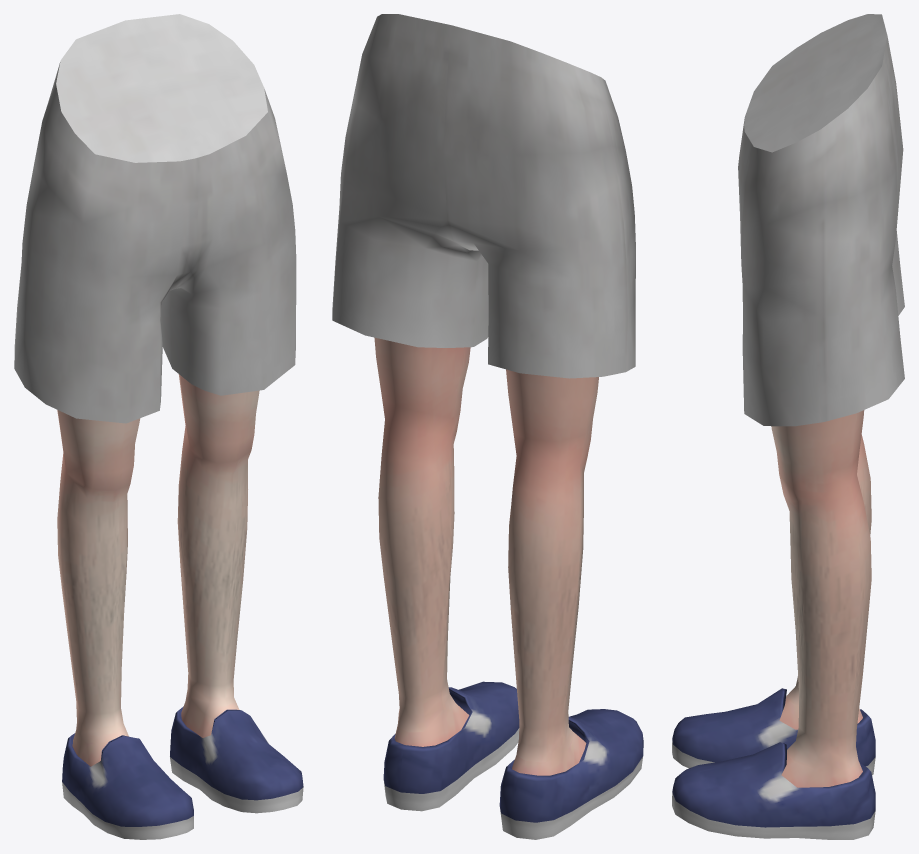
Rendered from tr0800_00_lwb01.gltf.
3 renders of one model, left to right at view 1: azimuth 30°, elevation 25°; view 2: azimuth 150°, elevation 25°; view 3: azimuth 270°, elevation 25°, orthographic. The views are drawn at different scales.
Visible parts, largest first — view 1: lwb01_lowerbody_mesh_shape:lowerbody01, lwb01_lowerskin_mesh_shape:lowerbody01_skin, lwb01_shoes_mesh_shape:lowerbody01; view 2: lwb01_lowerbody_mesh_shape:lowerbody01, lwb01_lowerskin_mesh_shape:lowerbody01_skin, lwb01_shoes_mesh_shape:lowerbody01; view 3: lwb01_lowerbody_mesh_shape:lowerbody01, lwb01_lowerskin_mesh_shape:lowerbody01_skin, lwb01_shoes_mesh_shape:lowerbody01.
Boxes of the visible parts, x1,y1,x2,y2 form: lwb01_lowerbody_mesh_shape:lowerbody01: [14, 14, 296, 423]; lwb01_lowerskin_mesh_shape:lowerbody01_skin: [57, 374, 259, 766]; lwb01_shoes_mesh_shape:lowerbody01: [62, 706, 303, 839]; lwb01_lowerbody_mesh_shape:lowerbody01: [332, 14, 635, 378]; lwb01_lowerskin_mesh_shape:lowerbody01_skin: [374, 337, 598, 775]; lwb01_shoes_mesh_shape:lowerbody01: [383, 681, 643, 839]; lwb01_lowerbody_mesh_shape:lowerbody01: [738, 14, 904, 426]; lwb01_lowerskin_mesh_shape:lowerbody01_skin: [771, 410, 871, 787]; lwb01_shoes_mesh_shape:lowerbody01: [672, 688, 875, 839].
Size of what is drawn, in the model's own units: 0.3633 by 0.9822 by 0.2711.
2 materials, 2 textured.
